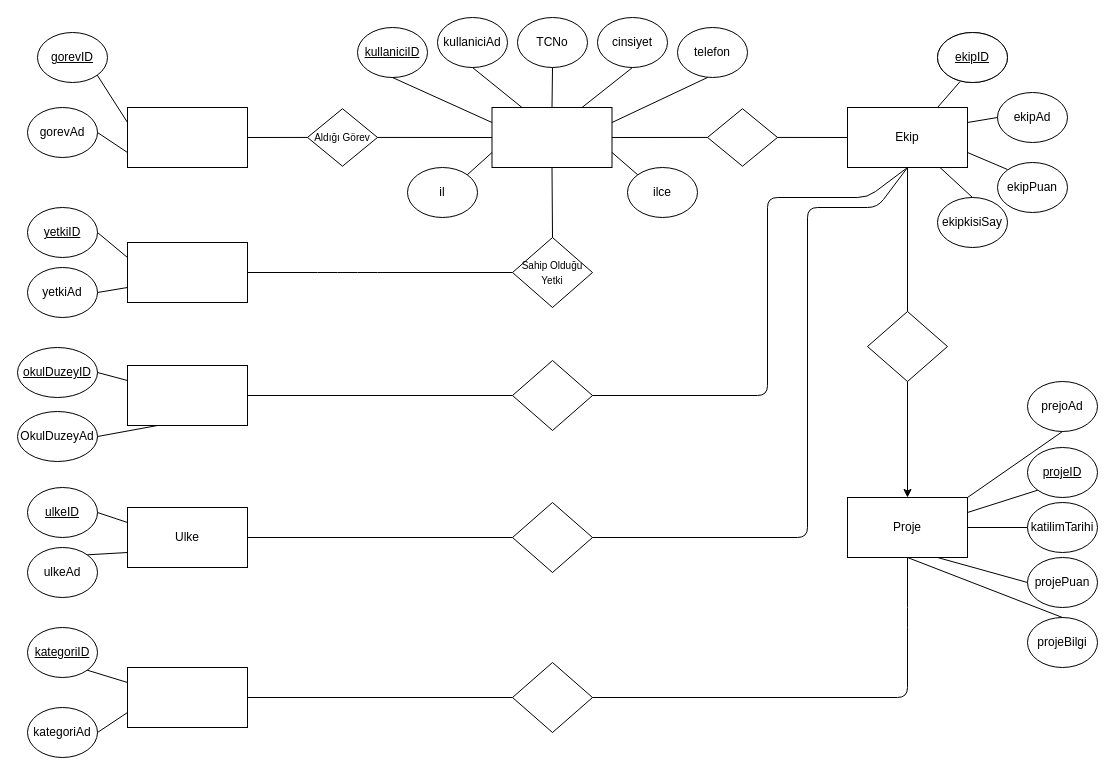
The diagram is 1115 pixels wide and 775 high, and some of its shapes have lost their labels. The box of each missing label's shape, as (x1, y1, x2, y2) in pixels:
Bulunduğu Ekip: (706, 108, 778, 166)
Ekibin Temsil Ettiği: (512, 502, 592, 572)
Ekibin Yarış Düzeyi: (512, 360, 592, 430)
Geliştirdiği Proje: (866, 310, 948, 382)
Gorev: (126, 106, 248, 168)
Kategori: (126, 666, 248, 728)
Kategorisi: (512, 662, 592, 732)
Kullanici: (491, 106, 612, 168)
OkulDuzey: (126, 364, 248, 426)
YetkiDuzey: (126, 242, 248, 302)
